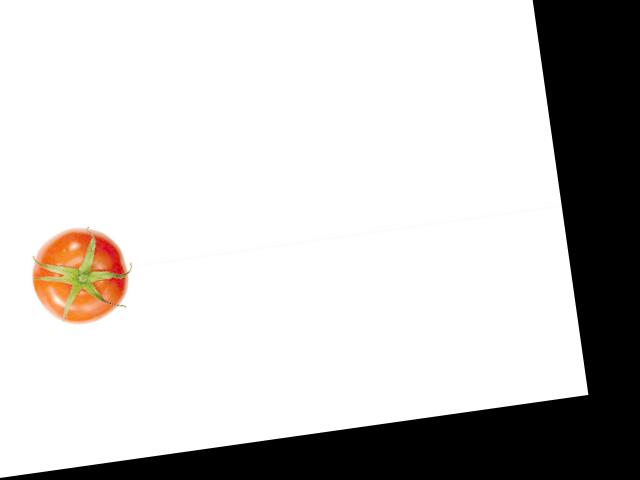tomato: (25, 221, 133, 329)
